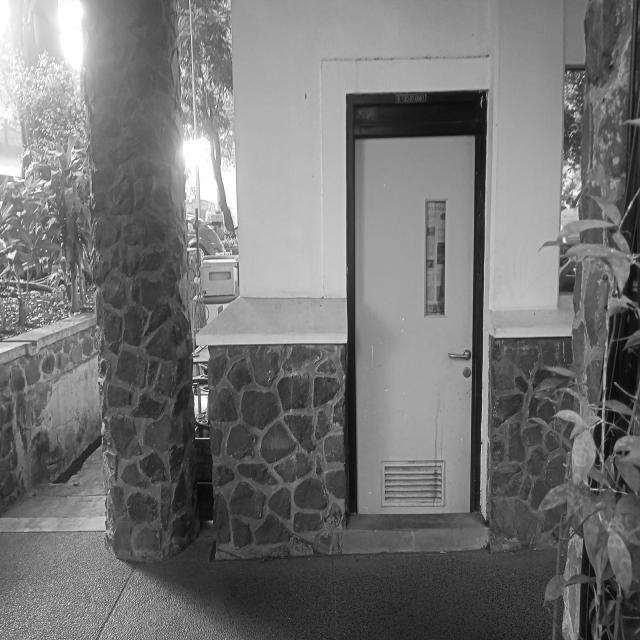door: (352, 130, 476, 517)
